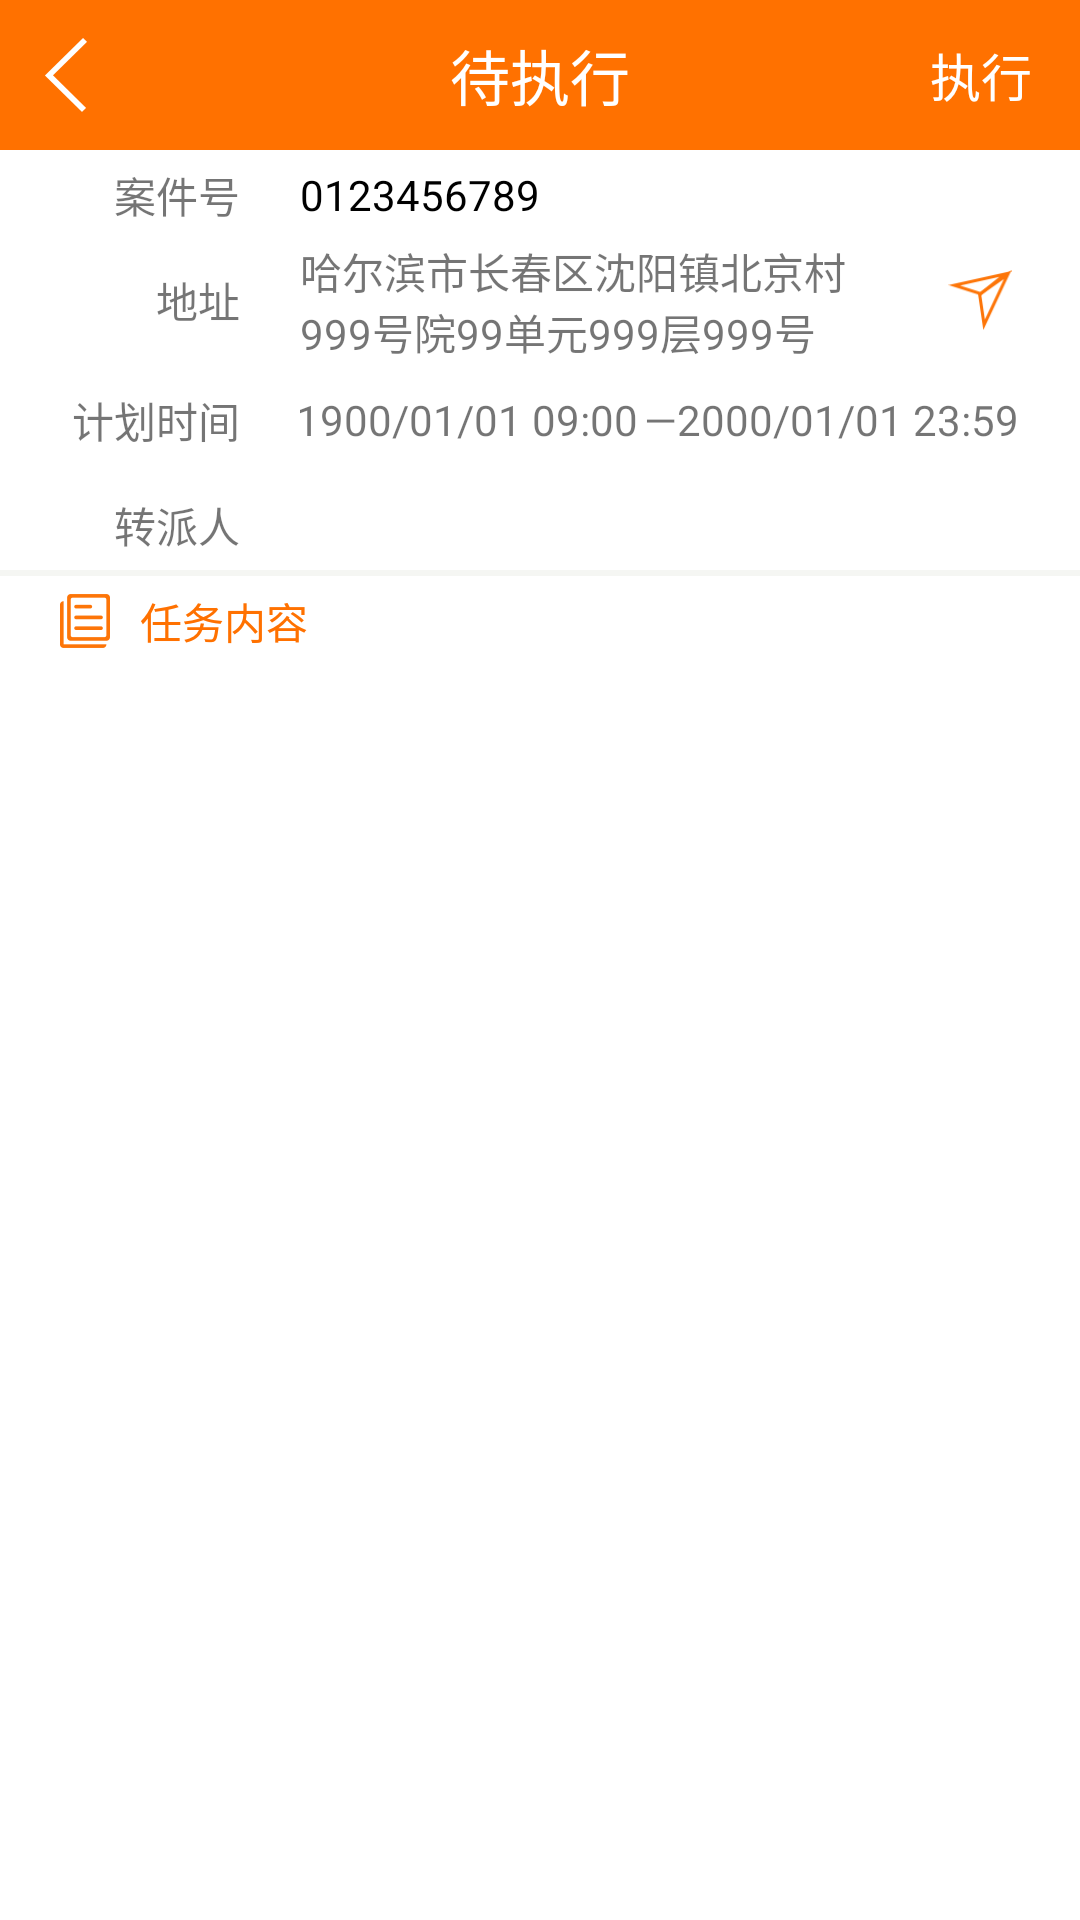

Icon bounding boxes for this 1080w x 1920h phone screenshot, format box=[x1, y1, x2, y2]:
backl: box=[45, 38, 87, 112]
daohang: box=[948, 270, 1012, 330]
